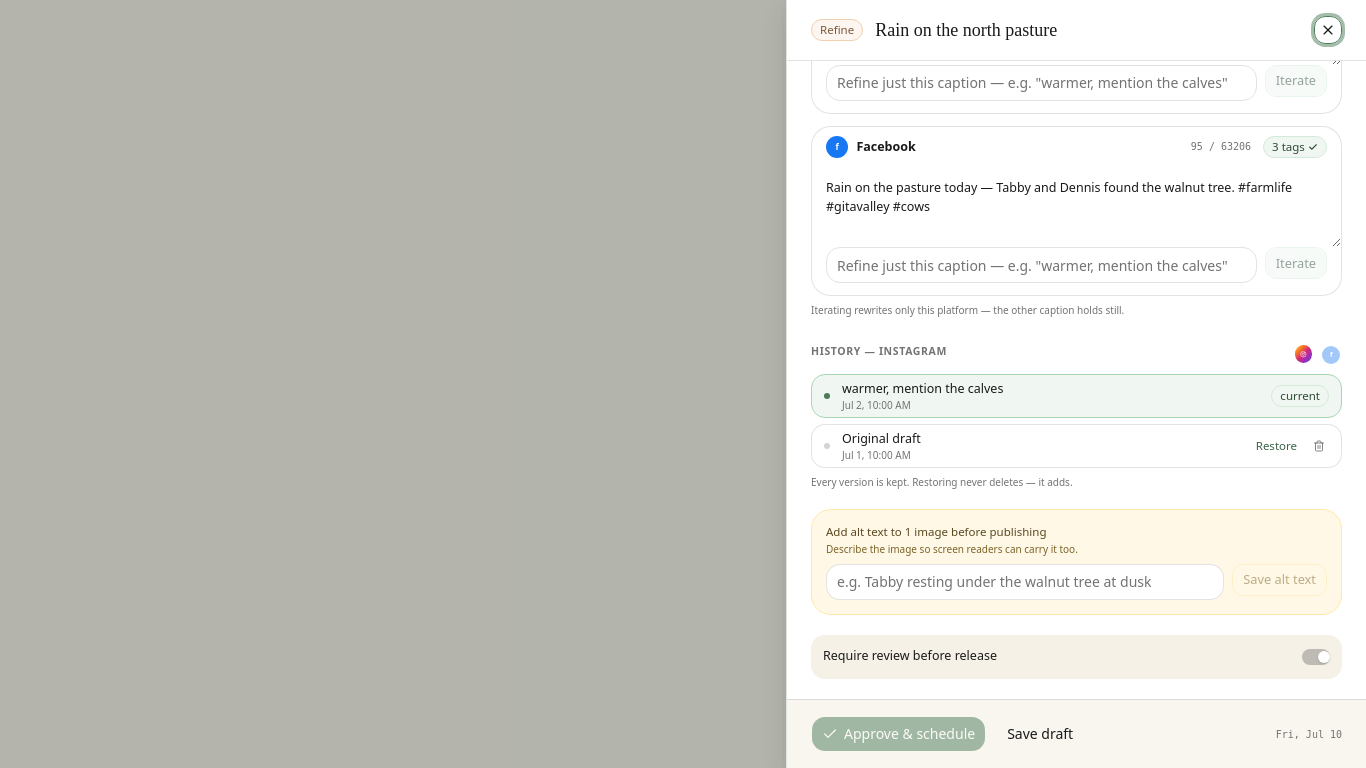
Test: ContentEditorSheet — refine mode › blocks approve while an image is missing alt text and unblocks after saving it
(page scrolled)
Expected: the heading "Rain on the north pasture" is shown, [875,20,1057,40]
Expected: the button "Approve & schedule" is disabled, [811,716,986,752]
# Save alt text → unblocks
Type "Tabby under the walnut tree" into the field labelled "Add alt text to 1 image before publishing".
click(1025, 582); type("Tabby under the walnut tree")  # box [826,564,1224,600]
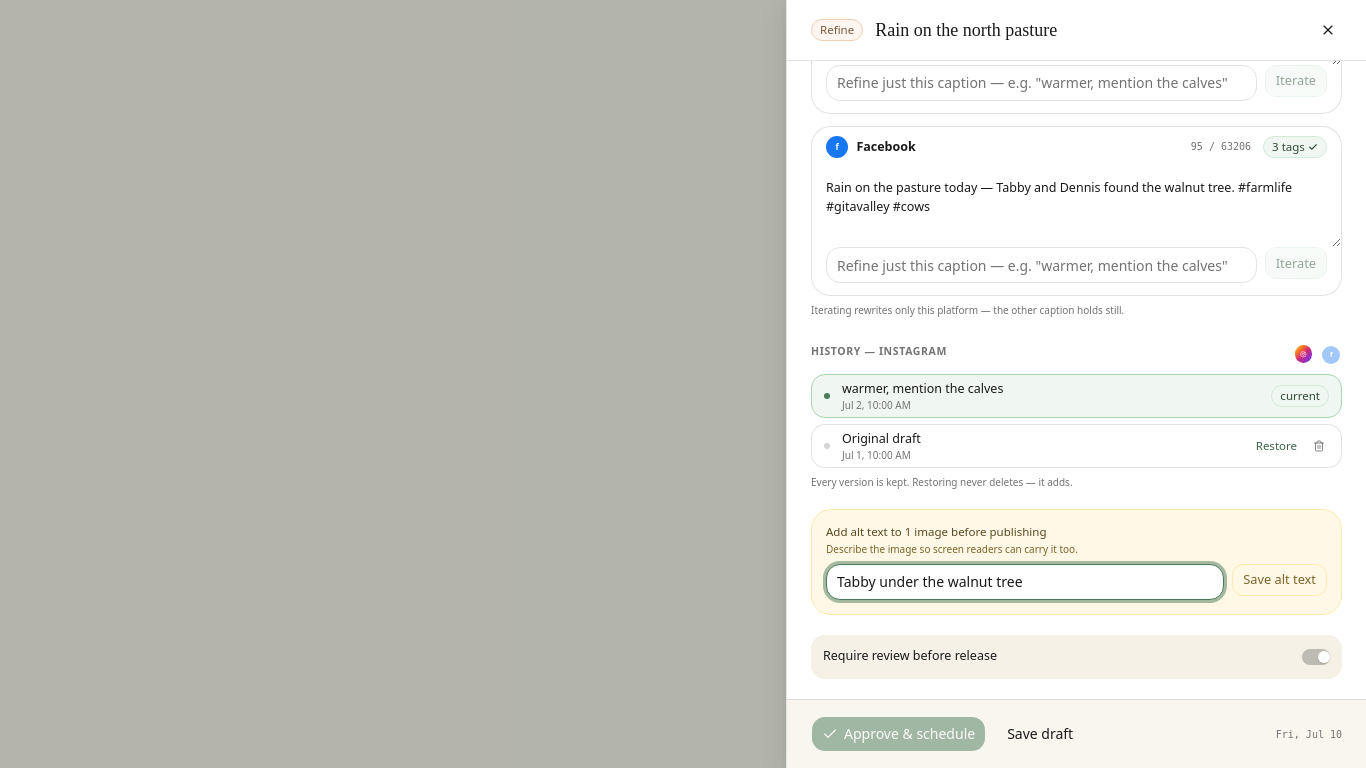
Click the button "Save alt text".
click(1280, 580)  # box [1232,564,1327,596]
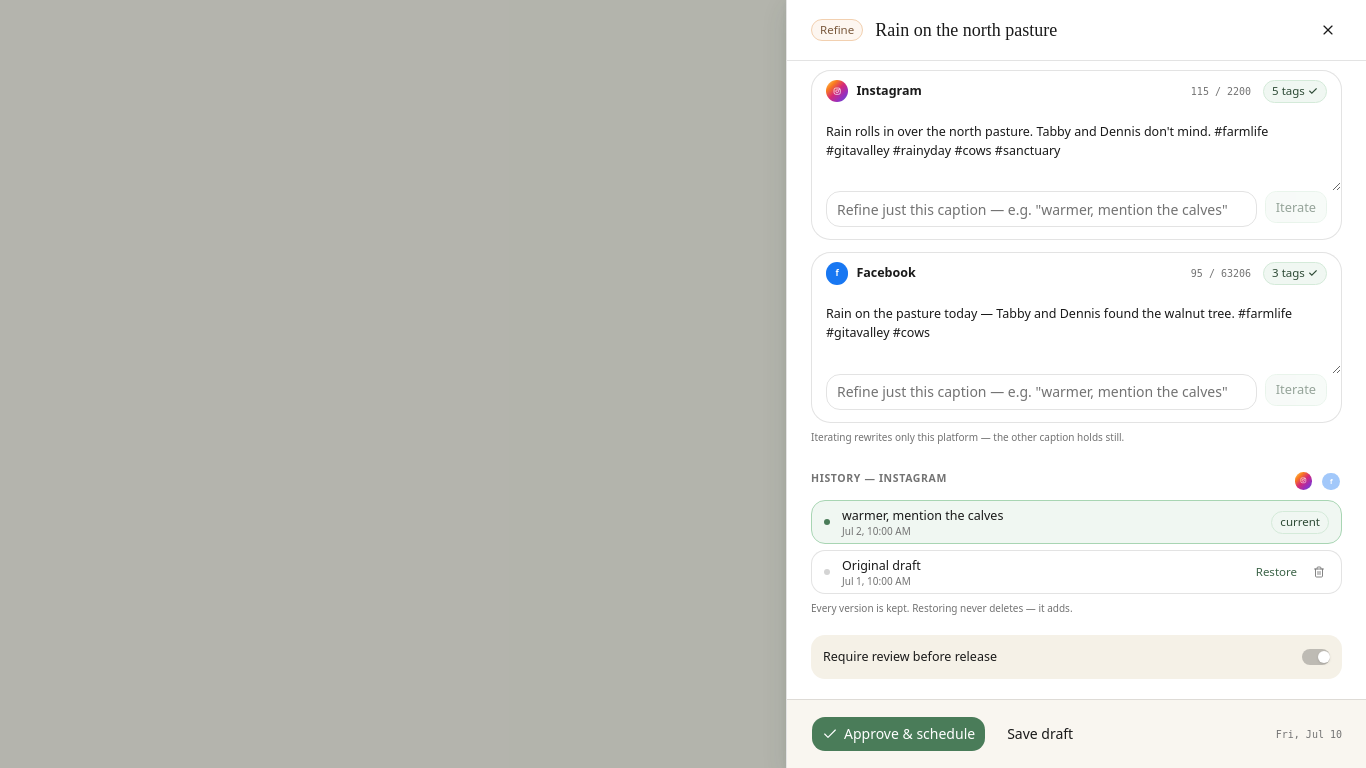
Now the button "Approve & schedule" is enabled, box [811,716,986,752]
